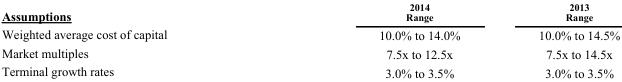table: (0, 1, 619, 79)
table column: (0, 1, 272, 79), (272, 1, 498, 79), (498, 1, 619, 79)
table column header: (0, 1, 619, 24)
table row: (0, 1, 619, 24), (0, 24, 619, 43), (0, 43, 619, 62), (0, 62, 619, 79)
